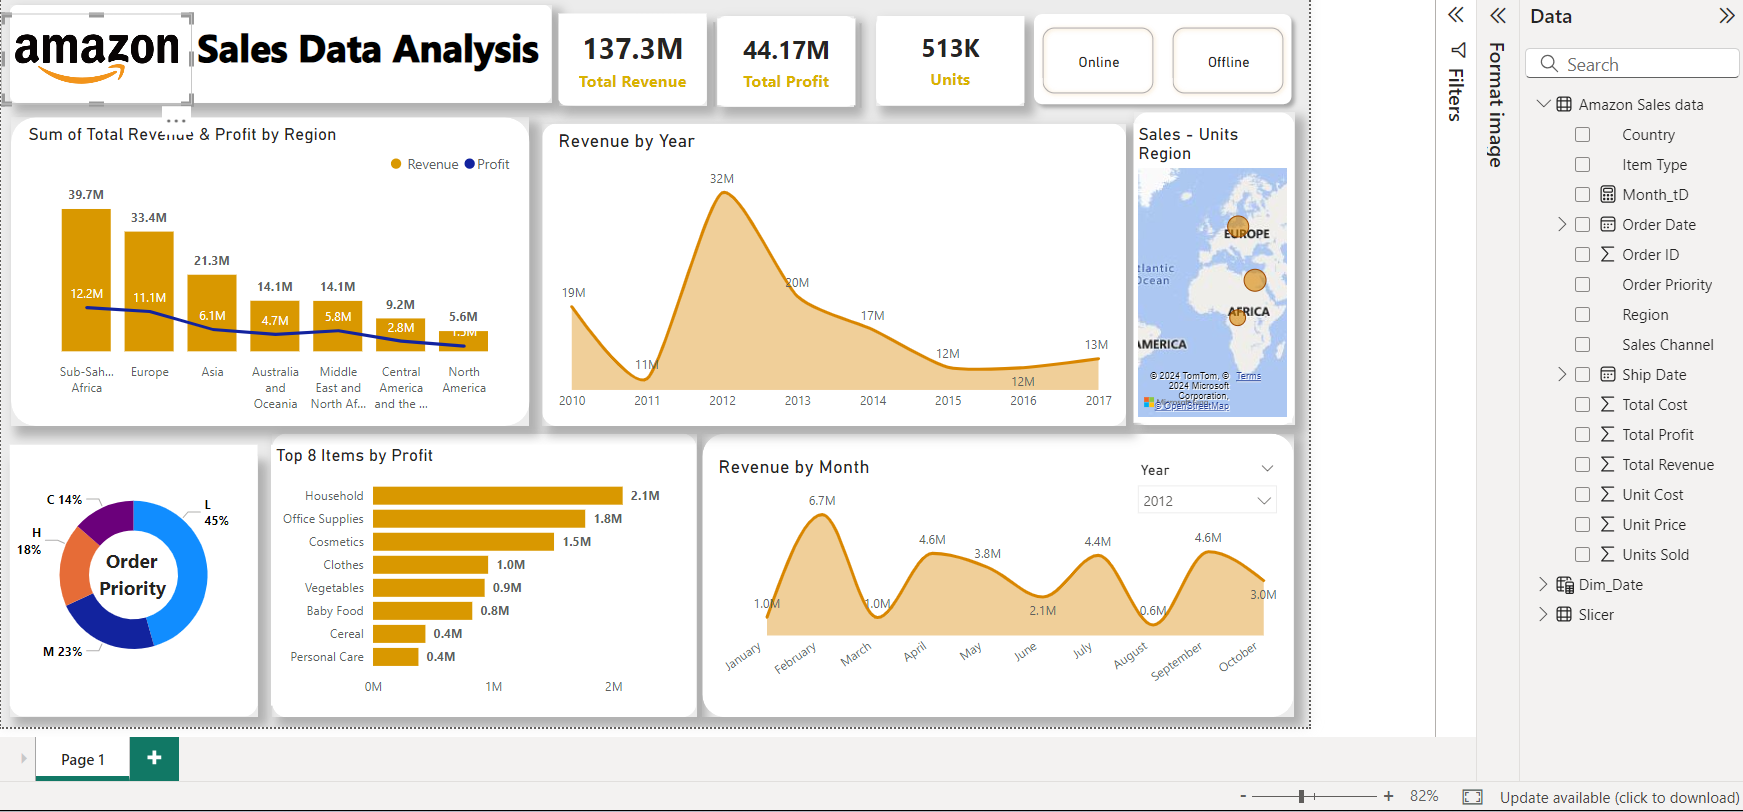

The page's visual inventory and layout, read from the dashboard file:
{"tool":"powerbi","page":{"name":"Page 1","canvas":[1280,720],"ordinal":0},"visuals":[{"type":"shape","box":[8.8,13.8,530,96.2],"z":0},{"type":"shape","box":[1107.5,118.8,157.5,306.2],"z":1000},{"type":"shape","box":[8.8,455,242.5,255],"z":2000},{"type":"shape","box":[265,432.5,415,277.5],"z":3000},{"type":"shape","box":[856.2,26.2,145,86.2],"z":4000},{"type":"shape","box":[700.3,25,133.8,88.8],"z":5000},{"type":"shape","box":[545.3,26.2,145,86.2],"z":6000},{"type":"shape","box":[686.2,432.5,578.8,277.5],"z":7000},{"type":"shape","box":[9.8,123.5,507.5,302],"z":8000},{"type":"shape","box":[529.5,129.6,571.1,295.9],"z":9000},{"type":"shape","box":[1001.2,13.8,270,106.2],"z":10000},{"type":"lineStackedColumnComboChart","title":"Sum of Total Revenue & Profit by Region","fields":{"Category":["Amazon Sales data.Region"],"Y2":["Sum(Amazon Sales data.Total Profit)"],"Y":["Sum(Amazon Sales data.Total Revenue)"]},"box":[22,129.6,485.5,289.8],"z":11000},{"type":"donutChart","fields":{"Category":["Amazon Sales data.Order Priority"],"Y":["CountNonNull(Amazon Sales data.Order Priority)"]},"box":[8.8,443.8,242.5,255],"z":12000},{"type":"clusteredBarChart","title":"Top 8 Items by Profit","fields":{"Category":["Amazon Sales data.Item Type"],"Y":["Sum(Amazon Sales data.Total Profit)"]},"box":[263.8,443.8,415,255],"z":13000},{"type":"advancedSlicerVisual","fields":{"Values":["Amazon Sales data.Sales Channel"]},"box":[1008.8,26.2,256.2,85],"z":14000},{"type":"cardVisual","fields":{"Data":["Sum(Amazon Sales data.Total Revenue)"]},"box":[545.3,22.5,145,85],"z":15000},{"type":"cardVisual","fields":{"Data":["Sum(Amazon Sales data.Units Sold)"]},"box":[857.5,25,143.8,85],"z":16000},{"type":"cardVisual","fields":{"Data":["Sum(Amazon Sales data.Total Profit)"]},"box":[700.3,27.5,135,85],"z":17000},{"type":"textbox","box":[85,536.2,90,68.8],"z":18000},{"type":"map","title":"Sales - Units Region","fields":{"Size":["Sum(Amazon Sales data.Total Profit)"],"Category":["Amazon Sales data.Region"]},"box":[1107.5,130,155,292.5],"z":19000},{"type":"shape","box":[635,30,126.2,82.5],"z":20000},{"type":"shape","box":[777.5,31.2,126.2,82.5],"z":21000},{"type":"areaChart","title":"Revenue by Year","fields":{"Y":["Sum(Amazon Sales data.Total Revenue)"],"Category":["Amazon Sales data.Order Date.Variation.Date Hierarchy.Year","Amazon Sales data.Order Date.Variation.Date Hierarchy.Quarter","Amazon Sales data.Order Date.Variation.Date Hierarchy.Month","Amazon Sales data.Order Date.Variation.Date Hierarchy.Day"]},"box":[540,136.2,551.2,283.8],"z":22000},{"type":"areaChart","title":"Revenue by Month","fields":{"Y":["Sum(Amazon Sales data.Total Revenue)"],"Category":["Amazon Sales data.Order Date.Variation.Date Hierarchy.Month"]},"box":[697.5,455,565,243.8],"z":23000},{"type":"image","box":[0,22.5,187.5,88.8],"z":24000},{"type":"textbox","box":[187.5,25,353.8,65],"z":25000},{"type":"slicer","fields":{"Values":["Amazon Sales data.Order Date.Variation.Date Hierarchy.Year"]},"box":[1101.2,455,156.2,62.5],"z":26000}]}

Visuals, with their boxes on the page's 1280x720 design canvas (x1, y1, x2, y2). These are canvas units, not pixel positions in the 1743x812 screenshot, which may show the page scaled, cropped or inside an application window:
shape: 9 14 539 110
shape: 1108 119 1265 425
shape: 9 455 251 710
shape: 265 432 680 710
shape: 856 26 1001 112
shape: 700 25 834 114
shape: 545 26 690 112
shape: 686 432 1265 710
shape: 10 124 517 426
shape: 530 130 1101 426
shape: 1001 14 1271 120
"Sum of Total Revenue & Profit by Region" lineStackedColumnComboChart: 22 130 508 419
donutChart - Amazon Sales data.Order Priority x CountNonNull(Amazon Sales data.Order Priority): 9 444 251 699
"Top 8 Items by Profit" clusteredBarChart: 264 444 679 699
advancedSlicerVisual - Amazon Sales data.Sales Channel: 1009 26 1265 111
cardVisual - Sum(Amazon Sales data.Total Revenue): 545 22 690 108
cardVisual - Sum(Amazon Sales data.Units Sold): 858 25 1001 110
cardVisual - Sum(Amazon Sales data.Total Profit): 700 28 835 112
textbox: 85 536 175 605
"Sales - Units Region" map: 1108 130 1262 422
shape: 635 30 761 112
shape: 778 31 904 114
"Revenue by Year" areaChart: 540 136 1091 420
"Revenue by Month" areaChart: 698 455 1262 699
image: 0 22 188 111
textbox: 188 25 541 90
slicer - Amazon Sales data.Order Date.Variation.Date Hierarchy.Year: 1101 455 1257 518
